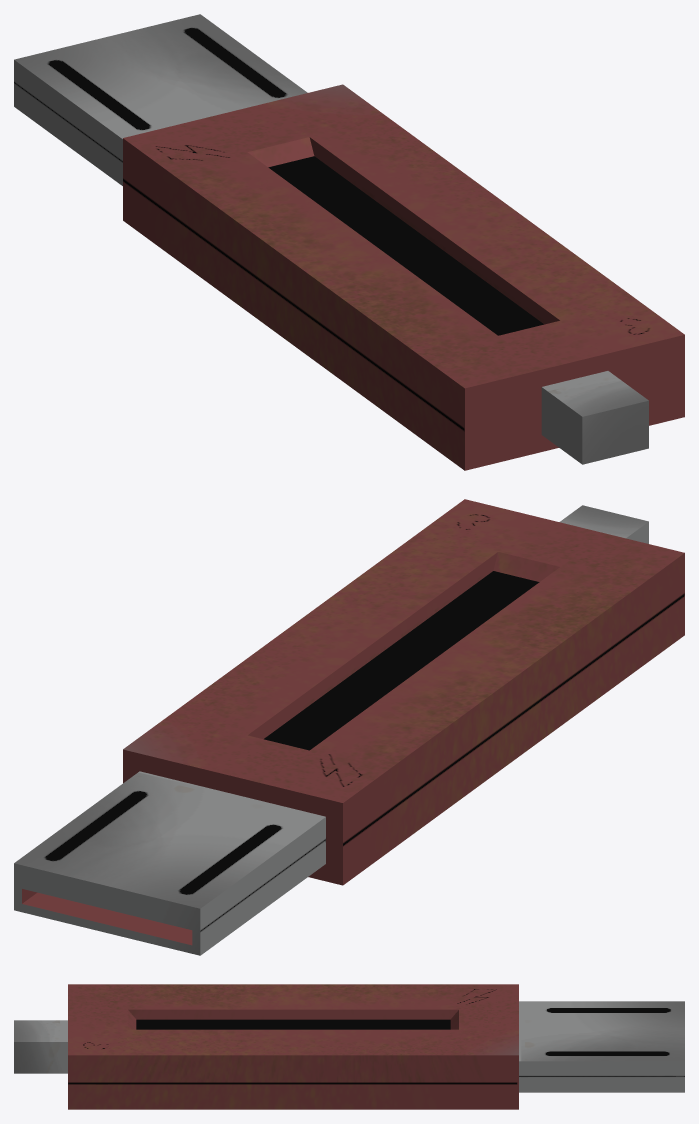
File: Item_flash_drive.fbx
The picture shows the model from 3 angles, top to bottom: view 1: azimuth 30°, elevation 25°; view 2: azimuth 150°, elevation 25°; view 3: azimuth 270°, elevation 25°; orthographic projection. The views are drawn at different scales.
Parts seen in each view (by area): view 1: Cube.033; view 2: Cube.033; view 3: Cube.033.
Part boxes in pixels (bbox=[...]): Cube.033: bbox=[14, 14, 684, 470]; Cube.033: bbox=[14, 499, 684, 955]; Cube.033: bbox=[14, 984, 684, 1109].
Size of the model in its own units: 3.84 by 1.37 by 15.37.
